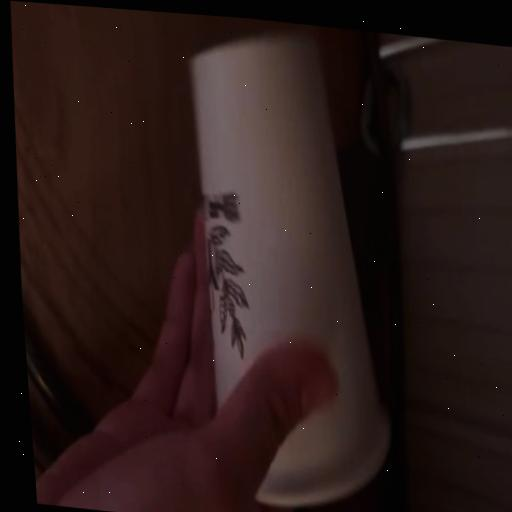ly_giay: (189, 35, 388, 507)
